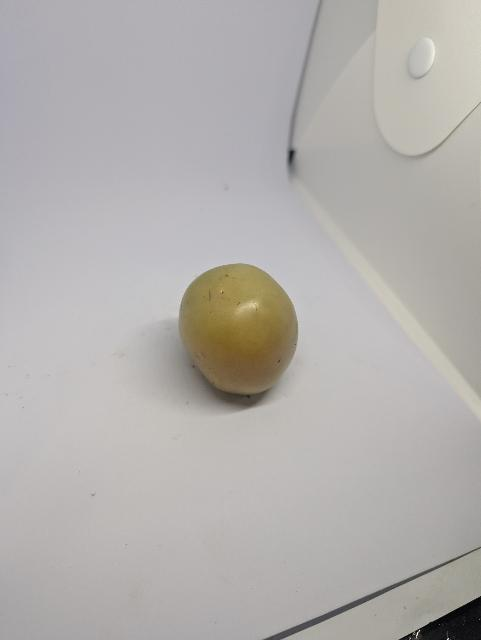breaker: (173, 254, 316, 395)
